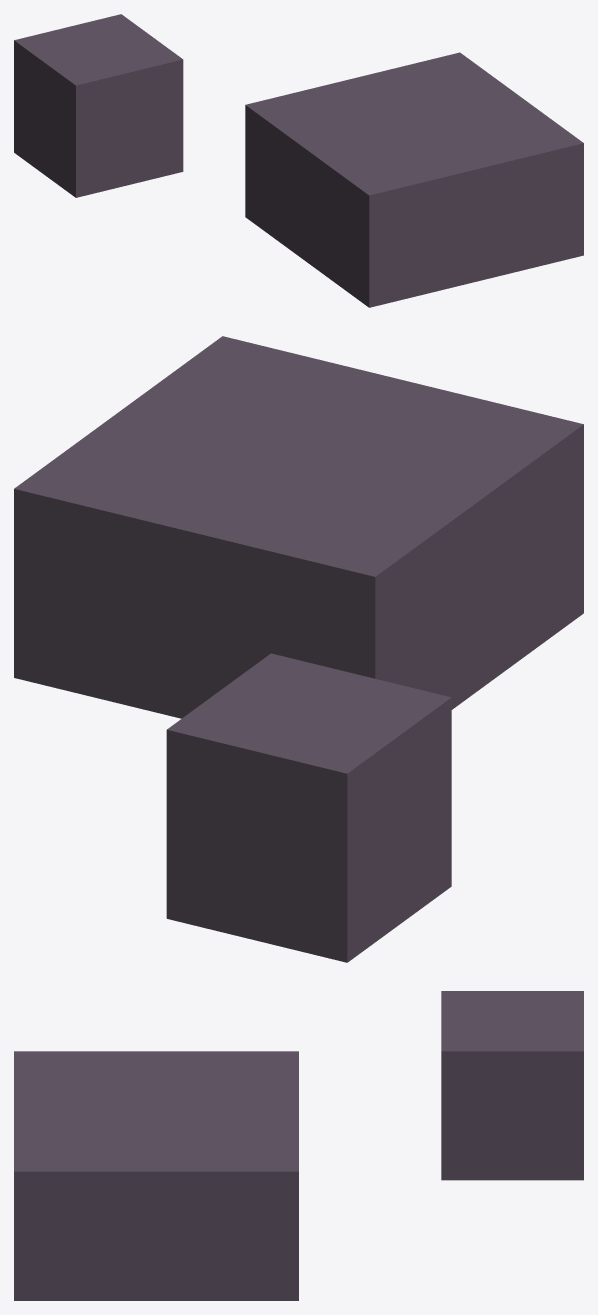
Rendered from LawnModel-13-0.obj.
The picture shows the model from 3 angles, top to bottom: view 1: azimuth 30°, elevation 25°; view 2: azimuth 150°, elevation 25°; view 3: azimuth 270°, elevation 25°; orthographic projection. The views are drawn at different scales.
Parts seen in each view (by area): view 1: LawnModel-13-0; view 2: LawnModel-13-0; view 3: LawnModel-13-0.
Part boxes in pixels (box(x1,y1,x2,y2)): LawnModel-13-0: box(14, 14, 583, 307); LawnModel-13-0: box(14, 336, 583, 962); LawnModel-13-0: box(14, 991, 583, 1300).
Bounding box in the file's own units: 3 × 1 × 4.
Materials: 1 (1 with a texture image).
